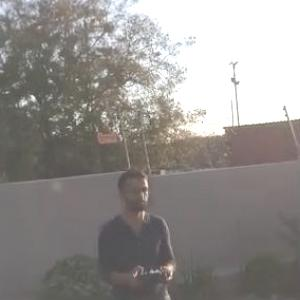follow: (95, 162, 188, 299)
